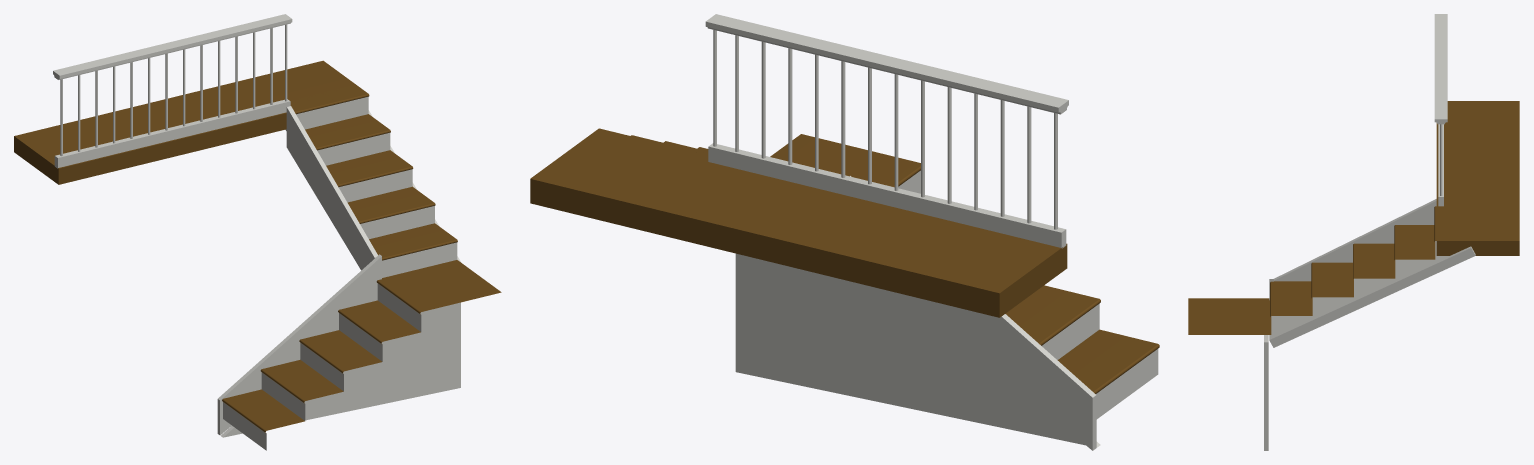
Rendered from stairs.fbx.
3 views of the same model, side by side, from view 1: azimuth 30°, elevation 25°; view 2: azimuth 150°, elevation 25°; view 3: azimuth 270°, elevation 25° (orthographic). The views are drawn at different scales.
Visible parts, largest first — view 1: stairs; view 2: stairs; view 3: stairs.
Part boxes in pixels (box(x1,y1,x2,y2)): stairs: box(14, 14, 501, 450); stairs: box(530, 14, 1159, 450); stairs: box(1188, 14, 1519, 450).
Size of the model in its own units: 405 by 400 by 396.
